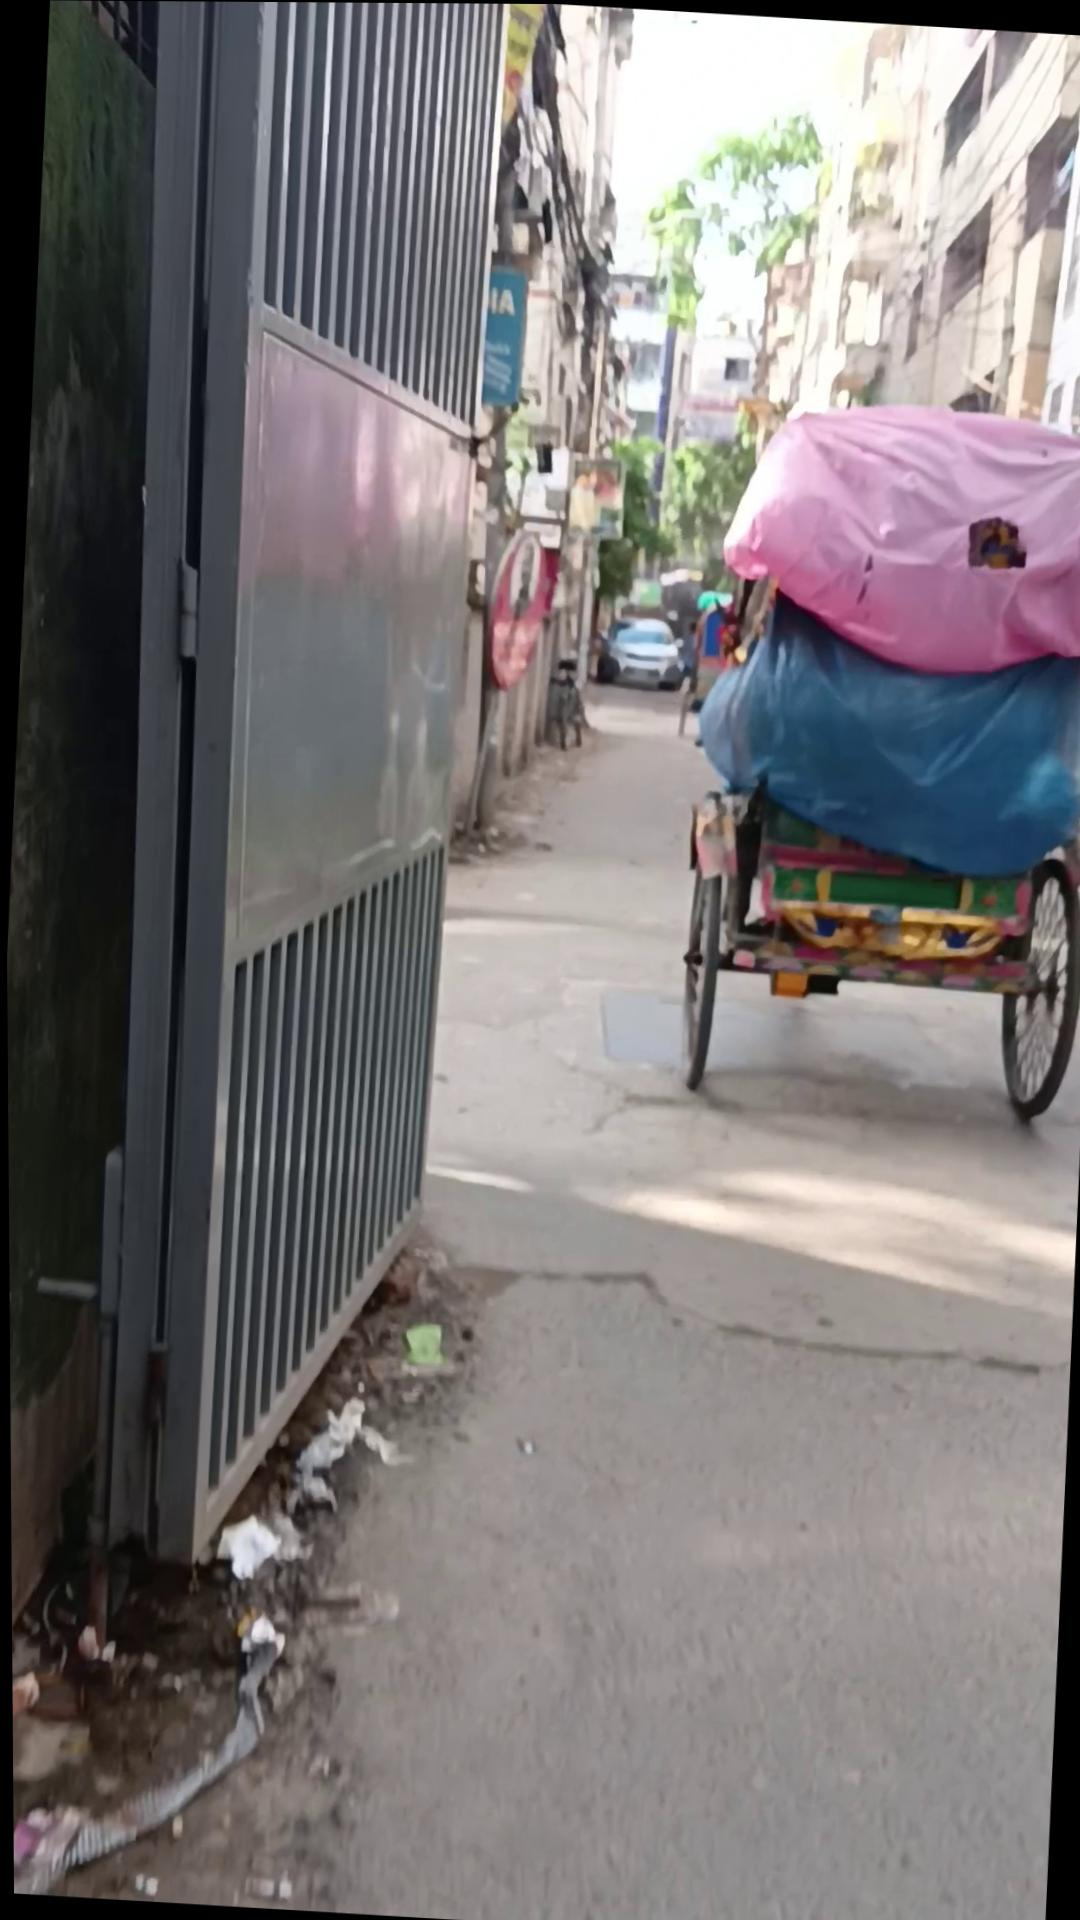Car: (591, 612, 687, 691)
Curb: (539, 654, 589, 750)
Motorcycle: (0, 0, 489, 1565)
Pothole: (663, 386, 1080, 1122), (669, 769, 1080, 1124)
Stuck-water: (477, 262, 530, 407)
